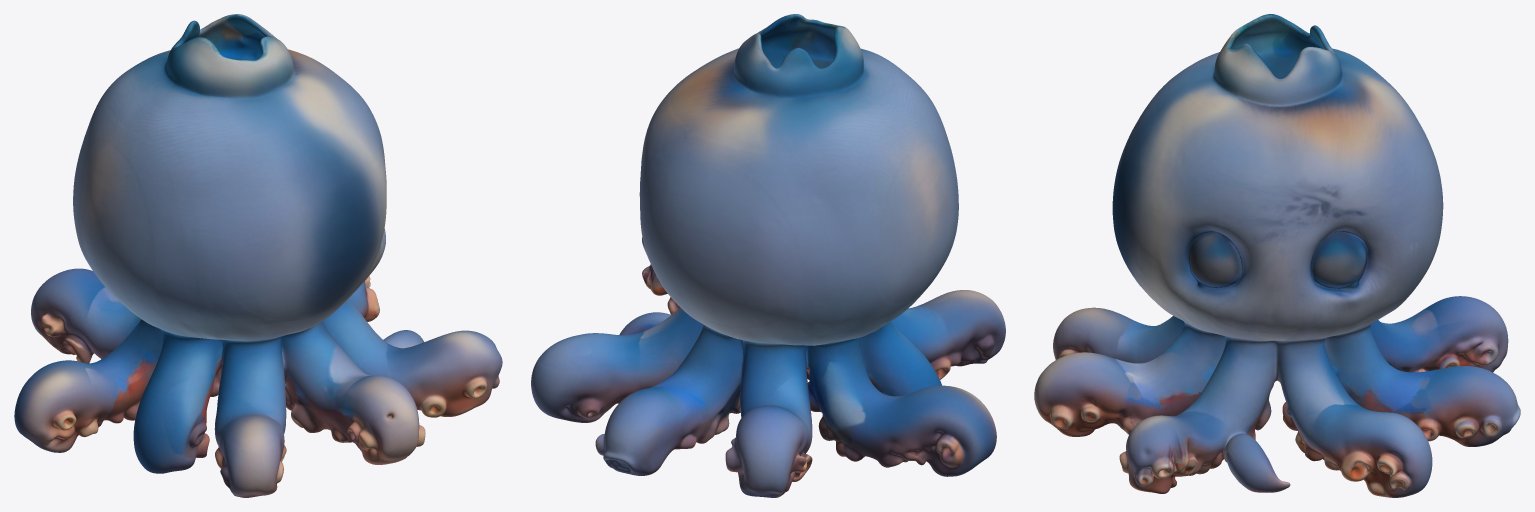
File: tripo_pbr_model_2bb15eb5-b692-4bf2-84e7-08c55352ab80 (1).glb
The picture shows the model from 3 angles, left to right: view 1: azimuth 30°, elevation 25°; view 2: azimuth 150°, elevation 25°; view 3: azimuth 270°, elevation 25°; orthographic projection.
Visible parts, largest first — view 1: tripo_node_2bb15eb5-b692-4bf2-84e7-08c55352ab80; view 2: tripo_node_2bb15eb5-b692-4bf2-84e7-08c55352ab80; view 3: tripo_node_2bb15eb5-b692-4bf2-84e7-08c55352ab80.
Boxes of the visible parts, <box> form: tripo_node_2bb15eb5-b692-4bf2-84e7-08c55352ab80: <box>14,14,502,497</box>; tripo_node_2bb15eb5-b692-4bf2-84e7-08c55352ab80: <box>531,14,1005,497</box>; tripo_node_2bb15eb5-b692-4bf2-84e7-08c55352ab80: <box>1034,14,1520,497</box>.
Size of the model in its own units: 0.9771 by 0.9183 by 1.
1 material, 1 textured.
